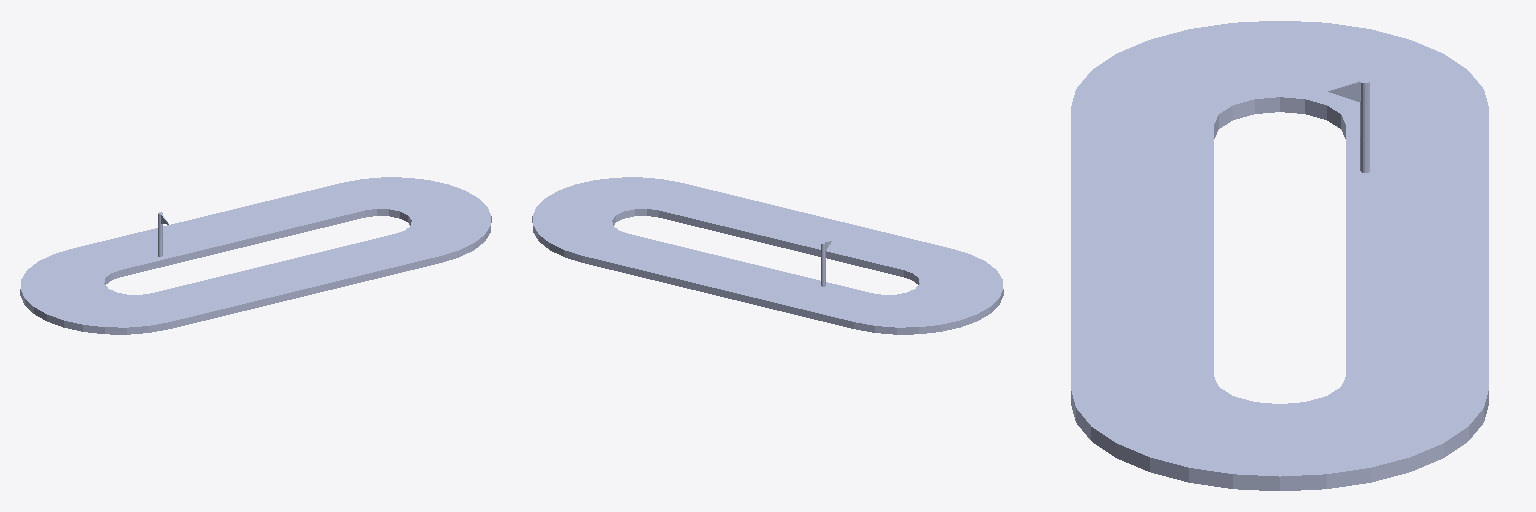
URDF robot description (track):
<?xml version="1.0" encoding="utf-8"?>
<!-- This URDF was automatically created by SolidWorks to URDF Exporter! Originally created by [author] ([email redacted]) 
     Commit Version: 1.6.0-4-g7f85cfe  Build Version: 1.6.7995.38578
     For more information, please see http://wiki.ros.org/sw_urdf_exporter -->
<robot
  name="track">
  <link
    name="base_link">
    <inertial>
      <origin
        xyz="5.48780653024367 -2.57886437820403 -0.247000237461496"
        rpy="0 0 0" />
      <mass
        value="147771.931643973" />
      <inertia
        ixx="2281092.55485334"
        ixy="3315.83122560795"
        ixz="2432.49456935465"
        iyy="12985459.7604271"
        iyz="-1115.75681958655"
        izz="15258374.1900984" />
    </inertial>
    <visual>
      <origin
        xyz="0 0 0"
        rpy="0 0 0" />
      <geometry>
        <mesh
          filename="package://track/meshes/base_link.STL" />
      </geometry>
      <material
        name="">
        <color
          rgba="0.792156862745098 0.819607843137255 0.933333333333333 1" />
      </material>
    </visual>
    <collision>
      <origin
        xyz="0 0 0"
        rpy="0 0 0" />
      <geometry>
        <mesh
          filename="package://track/meshes/base_link.STL" />
      </geometry>
    </collision>
  </link>
</robot>

--- Facts derived from the render (not from the file) ---
The picture shows the robot from 3 angles, left to right: view 1: azimuth 30°, elevation 25°; view 2: azimuth 150°, elevation 25°; view 3: azimuth 270°, elevation 25°; orthographic projection.
Robot: track — 1 links, 0 joints (none); root link base_link; default pose: every joint at zero.
Links seen in each view (by area): view 1: base_link; view 2: base_link; view 3: base_link.
Boxes of the visible links, x1,y1,x2,y2 form: base_link: (20, 177, 491, 334); base_link: (532, 177, 1003, 334); base_link: (1071, 21, 1488, 490).
Bounding box of the posed robot: 32.67 × 12.67 × 3.5 m (x, y, z).
1 mesh visuals loaded from 1 distinct referenced files (1 binary STL).